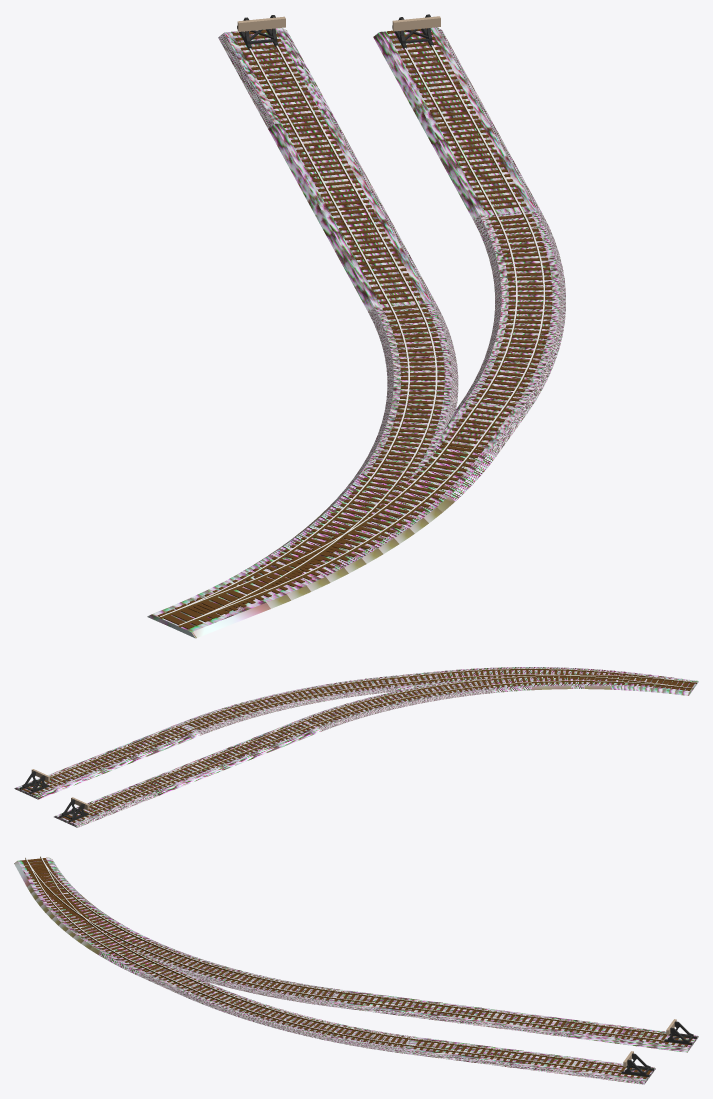
The model's file is GMLID_2633647_39464_319.dae.
3 views of the same model, one above another, from view 1: azimuth 30°, elevation 25°; view 2: azimuth 150°, elevation 25°; view 3: azimuth 270°, elevation 25° (orthographic). The views are drawn at different scales.
Size of the model in its own units: 70.6 by 90.72 by 2.52.
Materials: 7 (1 with a texture image).
